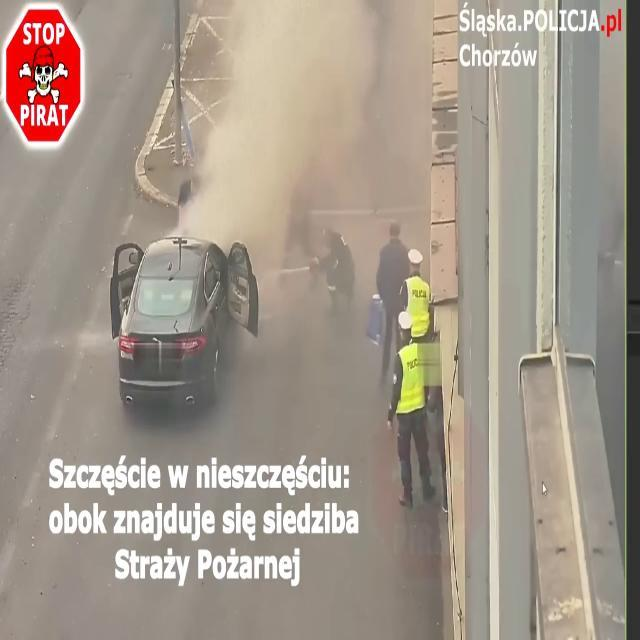Smoke: (181, 0, 424, 284)
